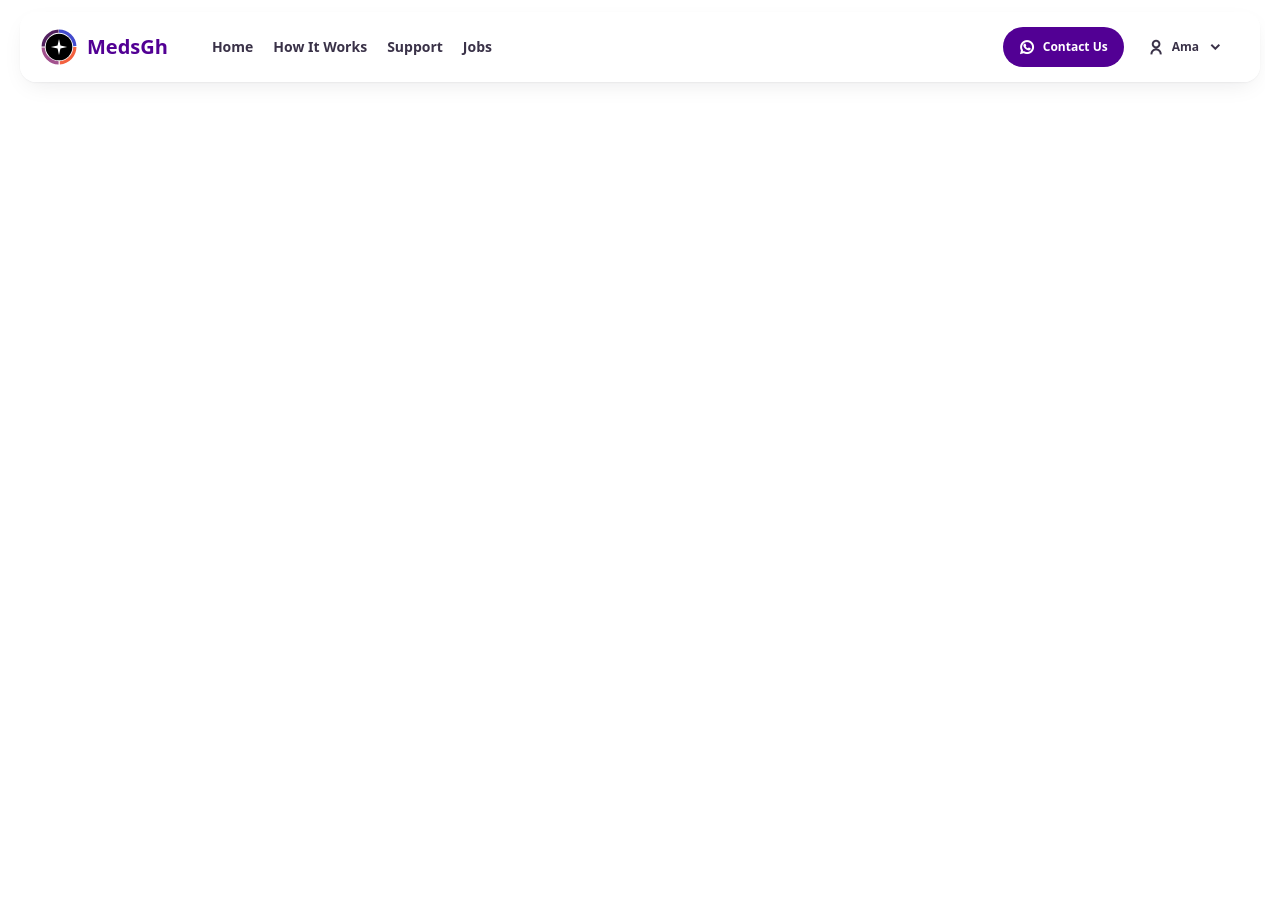
Test case: Navbar: signed-in customer › logging out › asks for confirmation first and does not log out yet
The image size is (1280, 900).
Click the button "Ama" at (1185, 47), box 1132,27 -> 1239,67
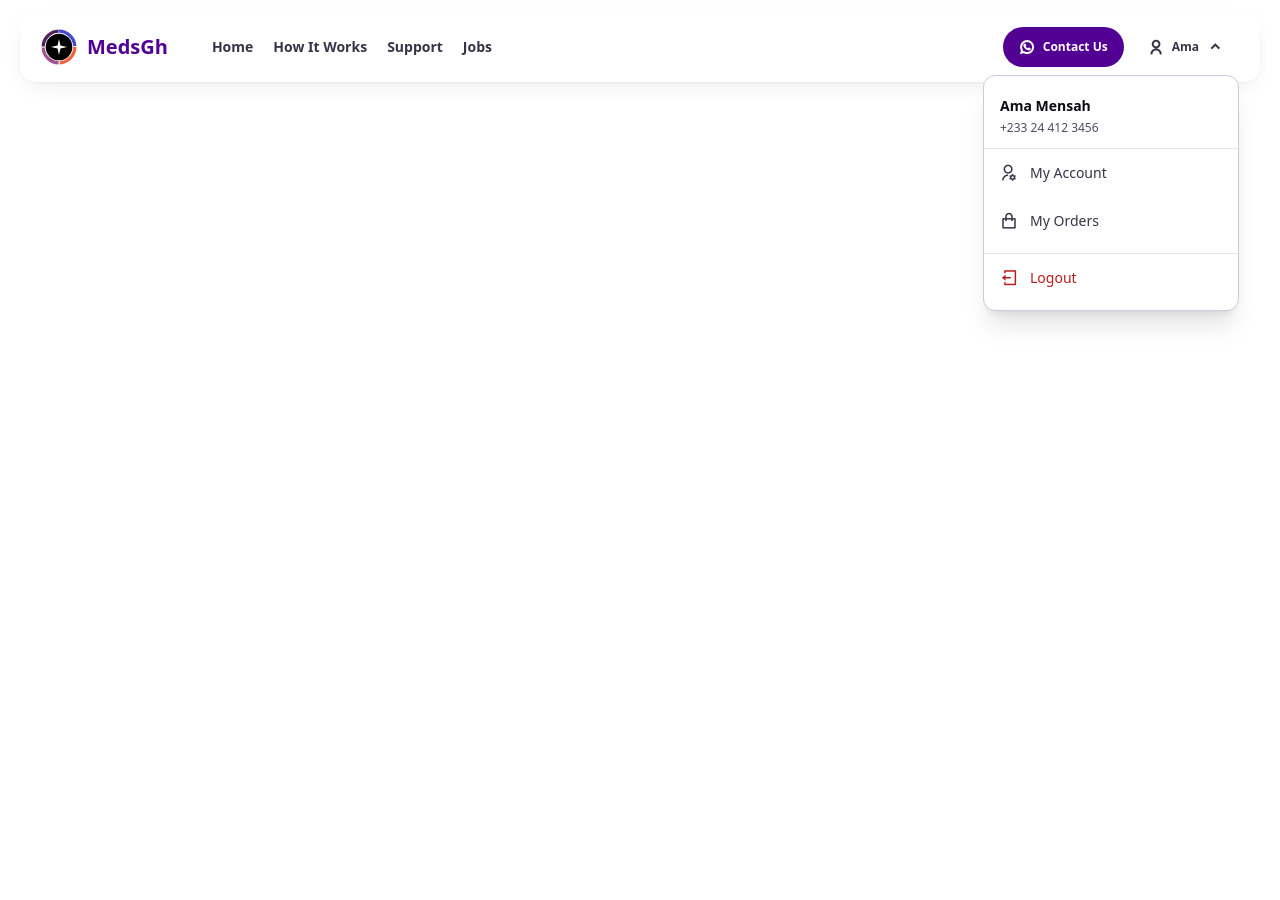
Click the button "Logout" at (1111, 278), box 984,254 -> 1238,302
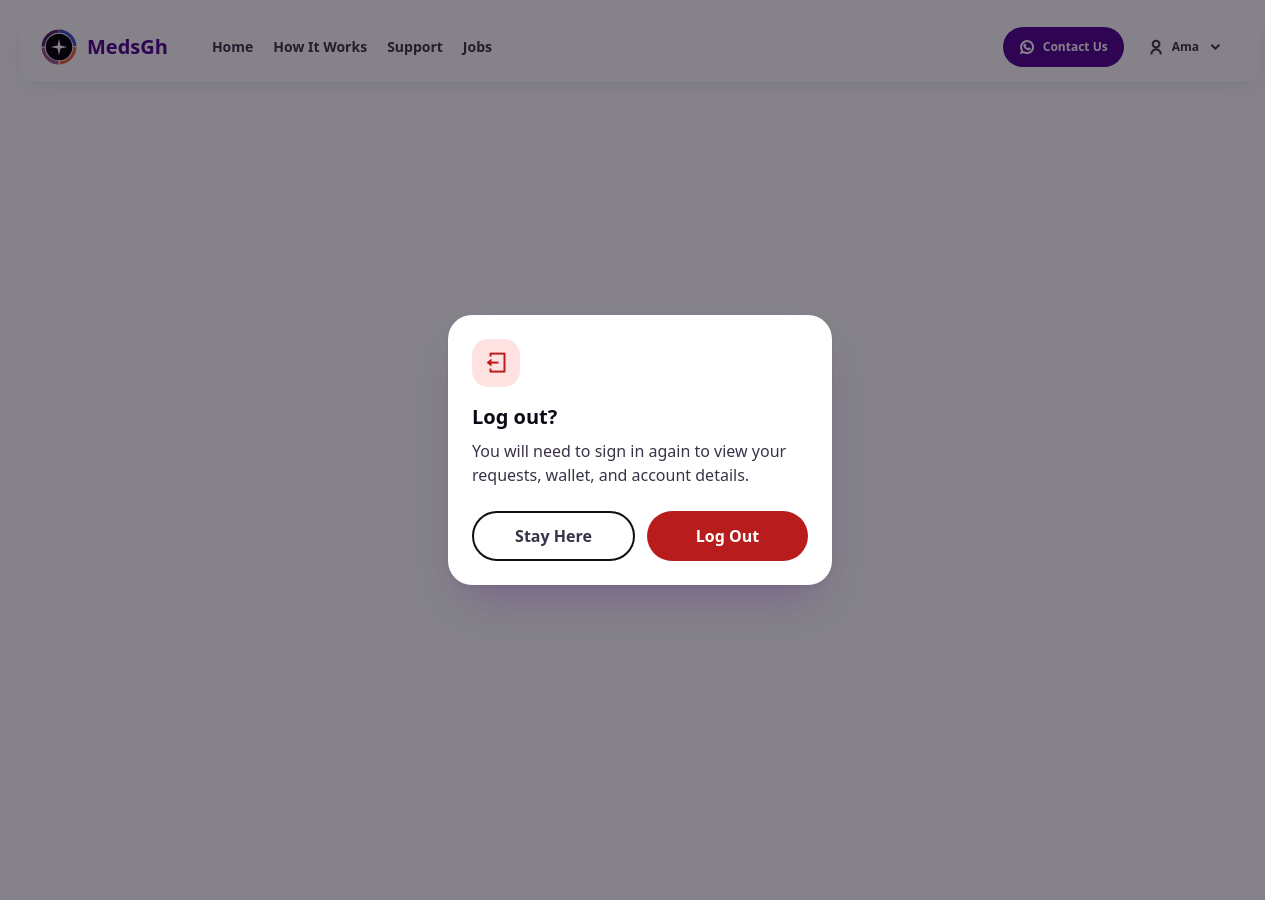
Now the dialog is shown, box 448,315 -> 832,585
Now the text "Log out?" is shown, box 472,403 -> 557,430
